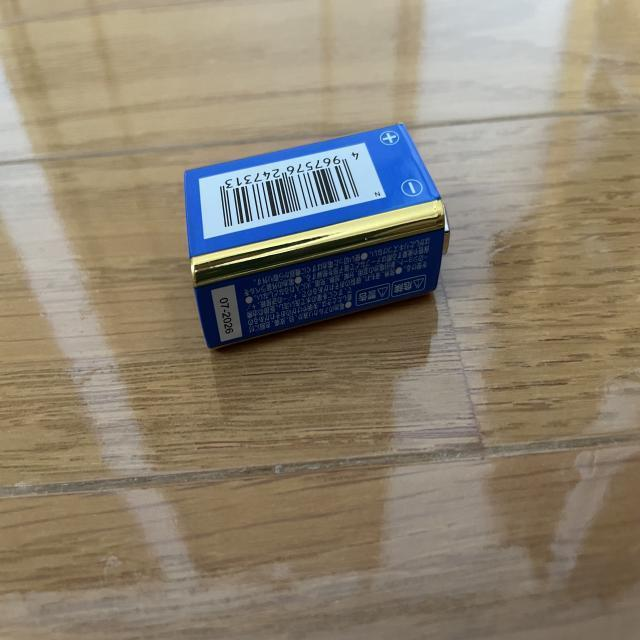9V: (183, 124, 453, 354)
